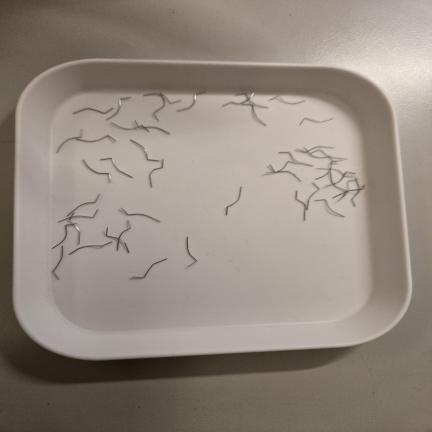probe: (131, 258, 167, 279), (83, 159, 112, 182), (100, 158, 133, 178), (130, 139, 159, 161), (177, 91, 206, 112), (69, 241, 112, 255), (314, 199, 345, 217), (121, 208, 160, 222), (226, 186, 242, 216), (149, 159, 164, 187), (52, 246, 63, 279), (186, 237, 197, 268), (269, 96, 305, 104), (73, 107, 113, 114), (299, 117, 333, 125)
